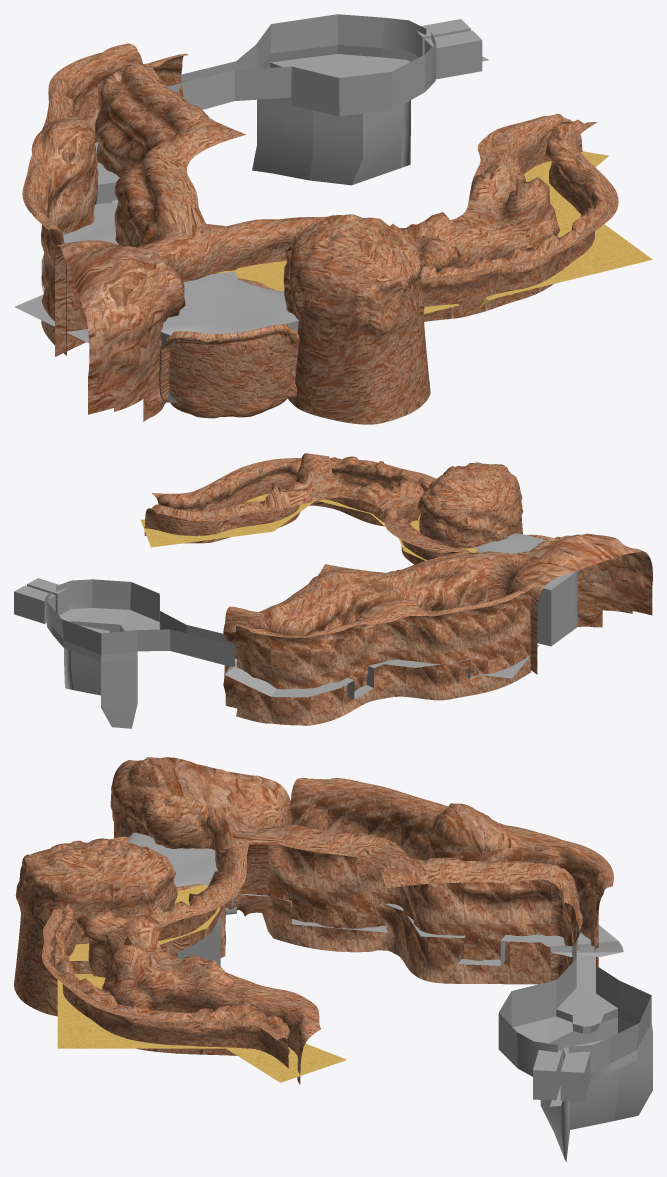
The model's file is env_level01_TutorialV5.fbx.
The picture shows the model from 3 angles, top to bottom: view 1: azimuth 30°, elevation 25°; view 2: azimuth 150°, elevation 25°; view 3: azimuth 270°, elevation 25°; orthographic projection. The views are drawn at different scales.
Visible parts, largest first — view 1: polySurface8, pCube200, pCube151, polySurface6, pCube150, pCube152, pCube207, pCube147, polySurface10, pCube180, pCube149, pCube181; view 2: polySurface8, polySurface6, pCube200, pCube151, pCube150, pCube207, polySurface10, pCube147, pCube181, pCube180; view 3: polySurface8, pCube200, polySurface6, pCube151, pCube150, pCube147, pCube207, polySurface10, pCube181, pCube180.
Boxes of the visible parts, x1,y1,x2,y2 form: polySurface8: (55, 53, 582, 421); pCube200: (167, 14, 489, 185); pCube151: (283, 214, 430, 424); polySurface6: (22, 43, 142, 355); pCube150: (419, 119, 618, 321); pCube152: (159, 324, 299, 418); pCube207: (160, 272, 298, 402); pCube147: (467, 151, 652, 312); polySurface10: (14, 142, 119, 343); pCube180: (424, 30, 482, 79); pCube149: (217, 260, 286, 290); pCube181: (416, 19, 470, 57); polySurface8: (144, 453, 652, 708); polySurface6: (236, 582, 536, 725); pCube200: (45, 579, 237, 728); pCube151: (417, 462, 522, 548); pCube150: (152, 456, 436, 510); pCube207: (474, 533, 579, 646); polySurface10: (225, 645, 538, 699); pCube147: (140, 493, 384, 547); pCube181: (14, 585, 55, 623); pCube180: (27, 578, 68, 615); polySurface8: (76, 757, 582, 1084); pCube200: (498, 924, 652, 1161); polySurface6: (290, 778, 613, 966); pCube151: (14, 838, 177, 1016); pCube150: (42, 903, 290, 1068); pCube147: (57, 974, 346, 1082); pCube207: (125, 832, 220, 965); polySurface10: (237, 893, 623, 965); pCube181: (560, 1051, 590, 1102); pCube180: (533, 1050, 562, 1100).
Size of the model in its own units: 20858 by 5972 by 19280.
